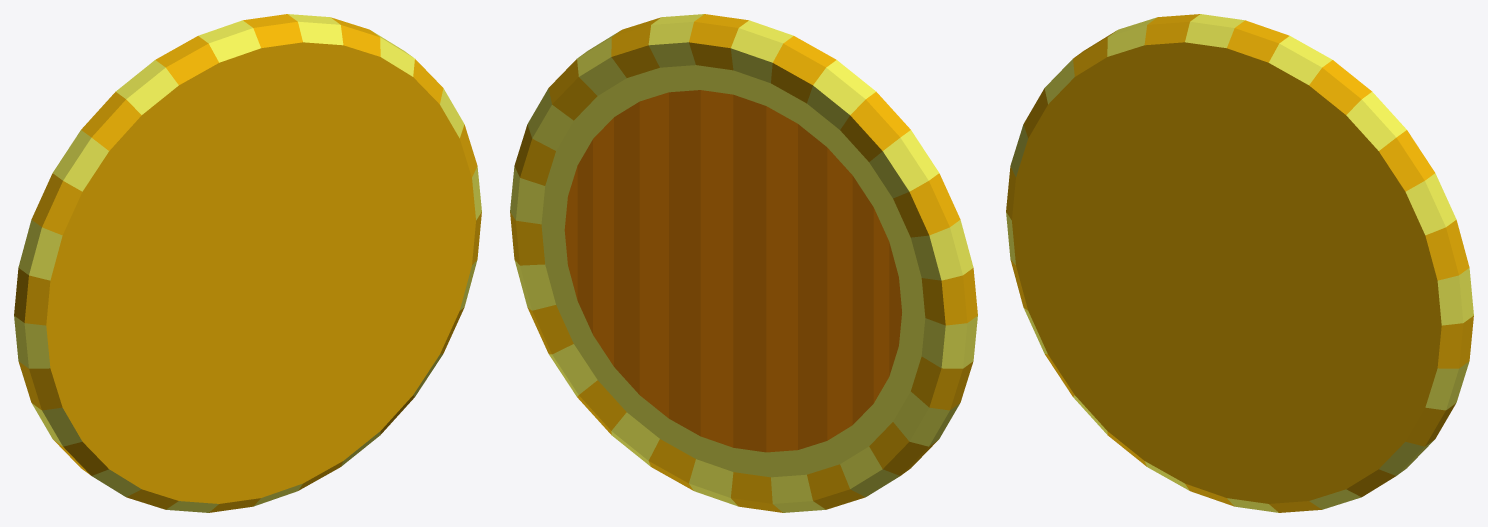
Rendered from coin.glb.
3 views of the same model, side by side, from view 1: azimuth 30°, elevation 25°; view 2: azimuth 150°, elevation 25°; view 3: azimuth 330°, elevation 25° (orthographic).
Parts seen in each view (by area): view 1: Cylinder; view 2: Cylinder; view 3: Cylinder.
Part boxes in pixels (box(x1,y1,x2,y2)): Cylinder: box(14, 14, 481, 512); Cylinder: box(510, 14, 977, 512); Cylinder: box(1006, 14, 1473, 512).
Size of the model in its own units: 1 by 1 by 0.1.
